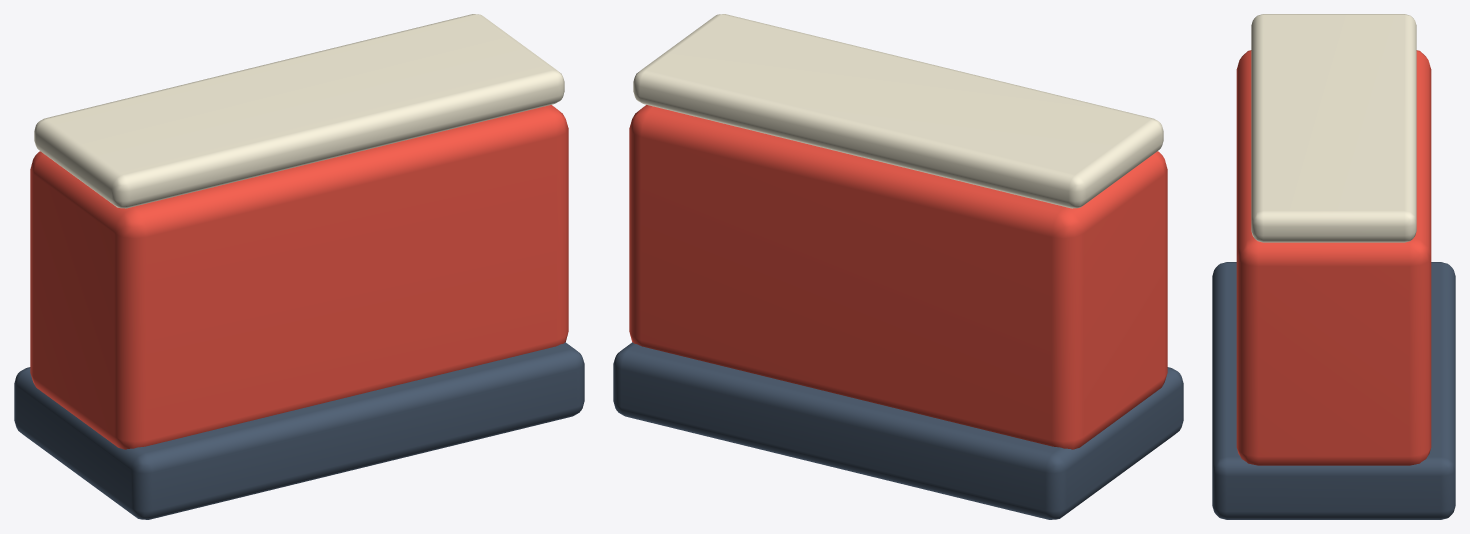
Rendered from AFJ_Wall_Straight_1Unit.fbx.
The picture shows the model from 3 angles, left to right: view 1: azimuth 30°, elevation 25°; view 2: azimuth 150°, elevation 25°; view 3: azimuth 270°, elevation 25°; orthographic projection. The views are drawn at different scales.
Parts seen in each view (by area): view 1: Wall_Body, Wall_Cap, Wall_Foot; view 2: Wall_Body, Wall_Cap, Wall_Foot; view 3: Wall_Body, Wall_Cap, Wall_Foot.
Part boxes in pixels (<box>): Wall_Body: <box>30,105,568,449</box>; Wall_Cap: <box>34,14,564,208</box>; Wall_Foot: <box>14,342,584,519</box>; Wall_Body: <box>629,105,1167,449</box>; Wall_Cap: <box>633,14,1163,208</box>; Wall_Foot: <box>613,342,1183,519</box>; Wall_Body: <box>1236,50,1431,465</box>; Wall_Cap: <box>1251,14,1416,242</box>; Wall_Foot: <box>1212,262,1455,519</box>.
Bounding box in the file's own units: 100 × 70 × 50.
